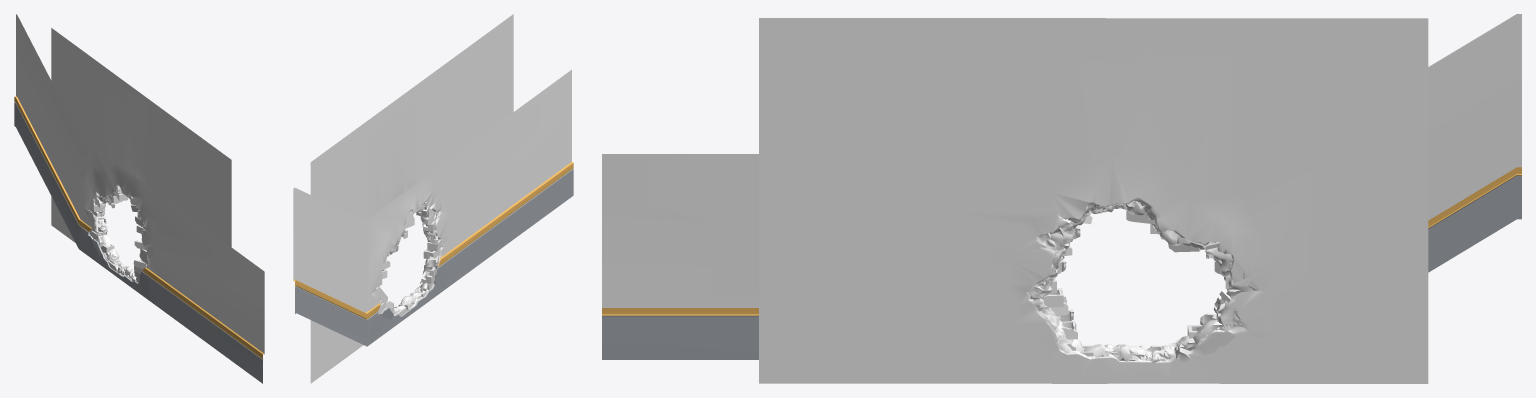
The picture shows the model from 3 angles, left to right: view 1: azimuth 30°, elevation 25°; view 2: azimuth 150°, elevation 25°; view 3: azimuth 270°, elevation 25°; orthographic projection. The views are drawn at different scales.
Visible parts, largest first — view 1: SM_H_Building_FutureTech_AgainstWar_01a_Damaged_02; view 2: SM_H_Building_FutureTech_AgainstWar_01a_Damaged_02; view 3: SM_H_Building_FutureTech_AgainstWar_01a_Damaged_02.
Part boxes in pixels (<box>): SM_H_Building_FutureTech_AgainstWar_01a_Damaged_02: <box>14,14,264,383</box>; SM_H_Building_FutureTech_AgainstWar_01a_Damaged_02: <box>293,14,573,383</box>; SM_H_Building_FutureTech_AgainstWar_01a_Damaged_02: <box>602,14,1521,383</box>.
Bounding box in the file's own units: 515 × 20.45 × 226.
